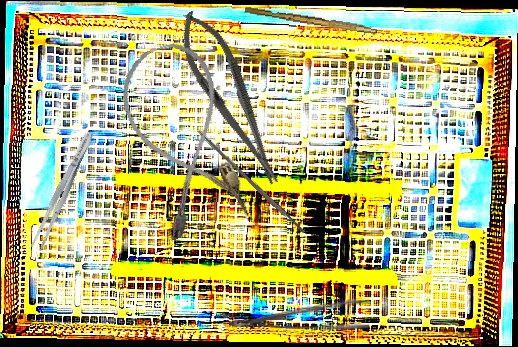Cannula: (110, 35, 254, 243)
Dressing Forceps: (28, 129, 98, 253), (228, 295, 370, 332)
Needle Holder: (166, 2, 295, 195)
Scalpel Handle: (196, 129, 306, 235), (243, 5, 379, 35)
